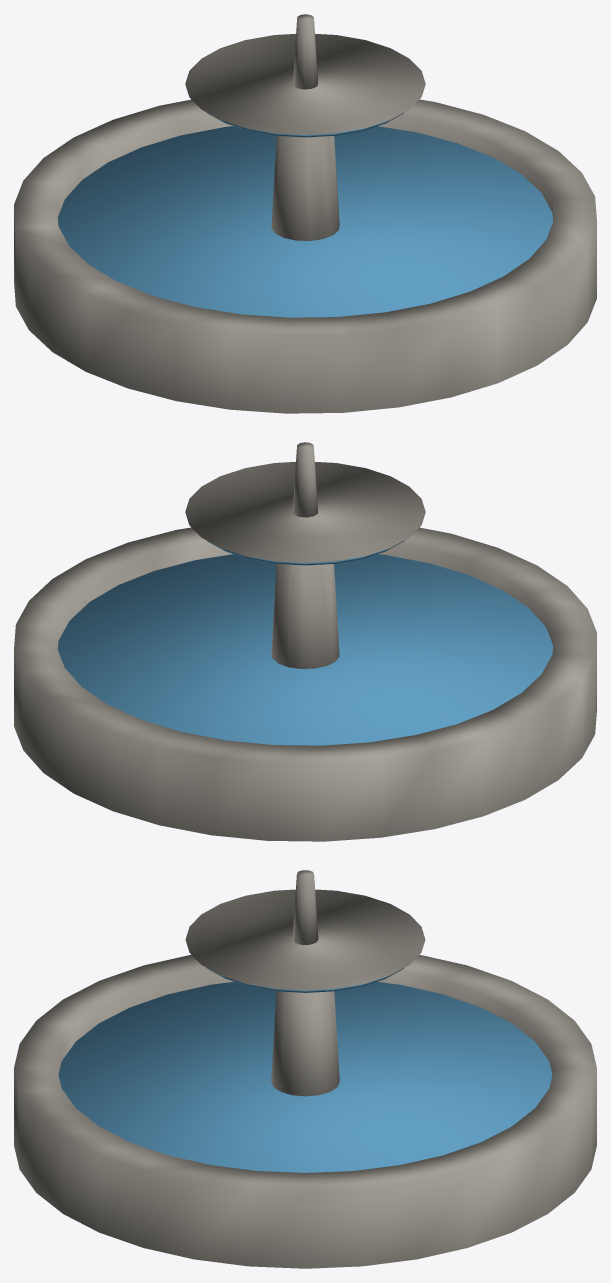
The model's file is Fountain.glb.
3 views of the same model, one above another, from view 1: azimuth 30°, elevation 25°; view 2: azimuth 150°, elevation 25°; view 3: azimuth 270°, elevation 25° (orthographic).
Visible parts, largest first — view 1: Stone, FountainWater; view 2: Stone, FountainWater; view 3: Stone, FountainWater.
Part boxes in pixels (<box>): Stone: <box>14,14,596,413</box>; FountainWater: <box>57,112,553,317</box>; Stone: <box>14,442,596,841</box>; FountainWater: <box>57,540,553,745</box>; Stone: <box>14,870,596,1268</box>; FountainWater: <box>58,968,552,1172</box>.
Size of the model in its own units: 3.4 by 1.75 by 3.4.
